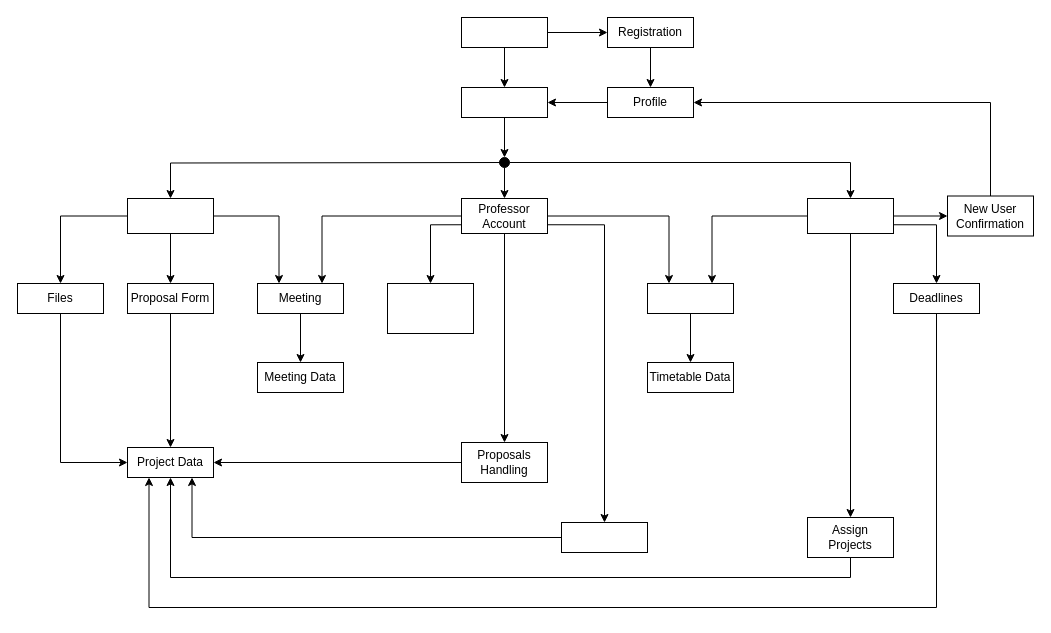
The diagram is 1051 pixels wide and 633 high, and some of its shapes have lost their labels. Here are the shapes that lost their labels. From the top down, the centre of each, then its label:
point 504,32: Web Interface
point 504,102: Authentication
point 170,216: Student Account
point 850,216: Administrator Account
point 430,308: Project Supervision Form
point 690,298: Timetable
point 604,537: Marking
